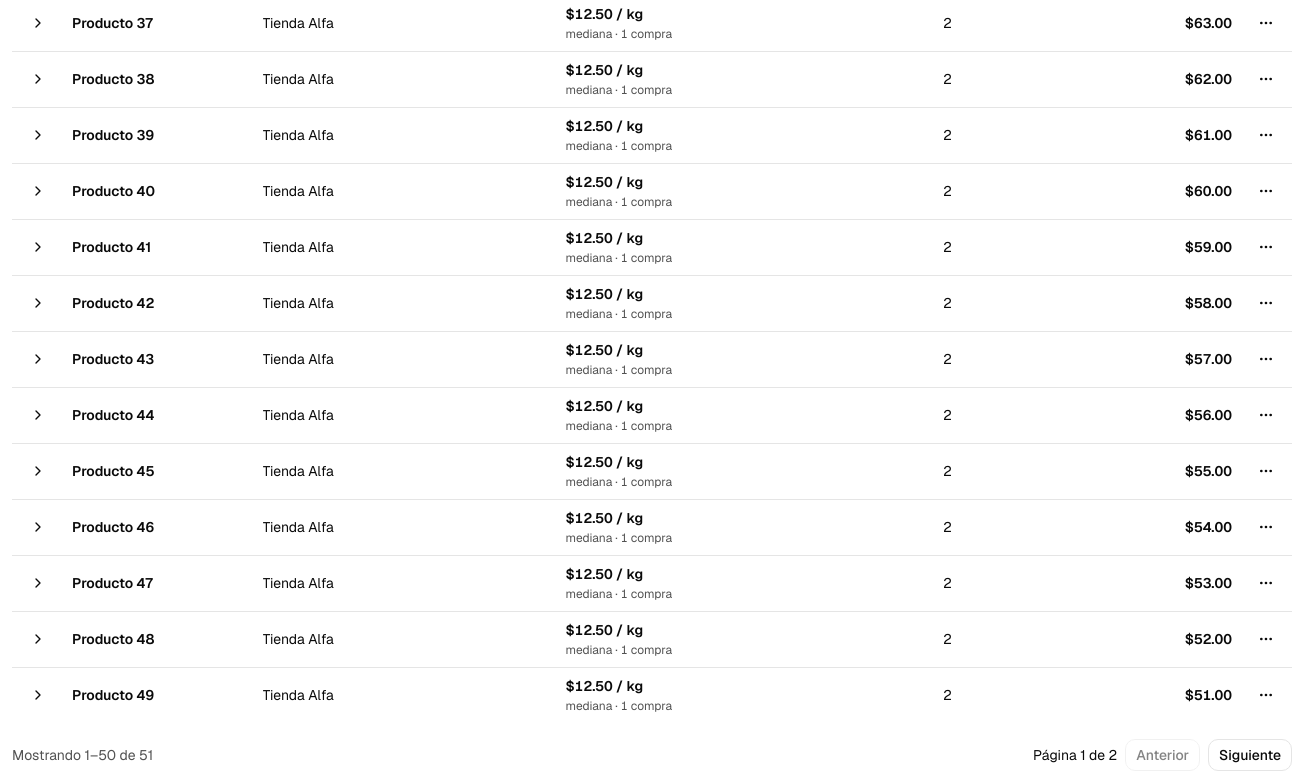
it: PricesTable pagination (E4 overflow) › shows 50 rows and the pagination footer above 50 rows
(page scrolled)
expect the text "Mostrando 1–50 de 51" is shown: met, box [12,745,153,765]
expect the text "Página 1 de 2" is shown: met, box [1033,745,1117,765]
Step 1. Click the button "Siguiente" → point(1250, 755), box [1208,739,1292,770]
(page scrolled)
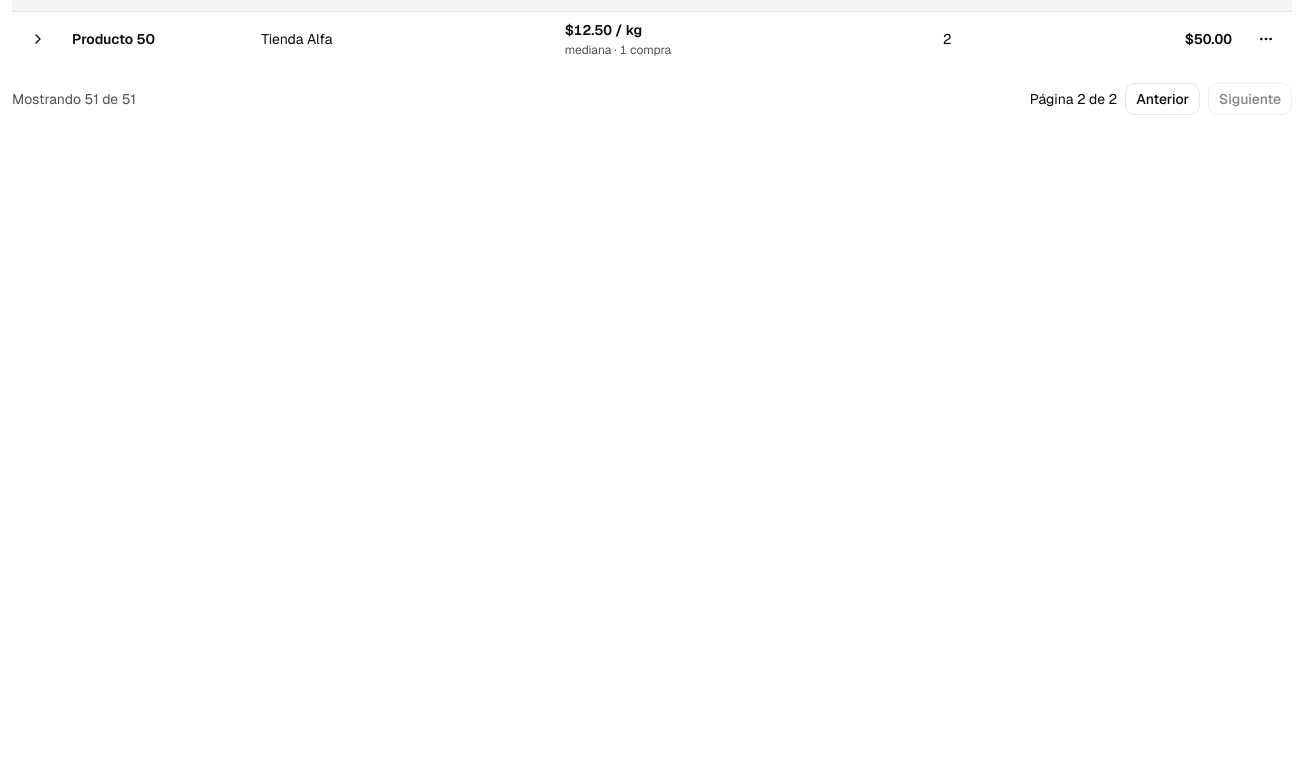
expect the text "Mostrando 51 de 51" is shown: met, box [12,89,136,109]
expect the button "Siguiente" is disabled: met, box [1208,83,1292,115]
